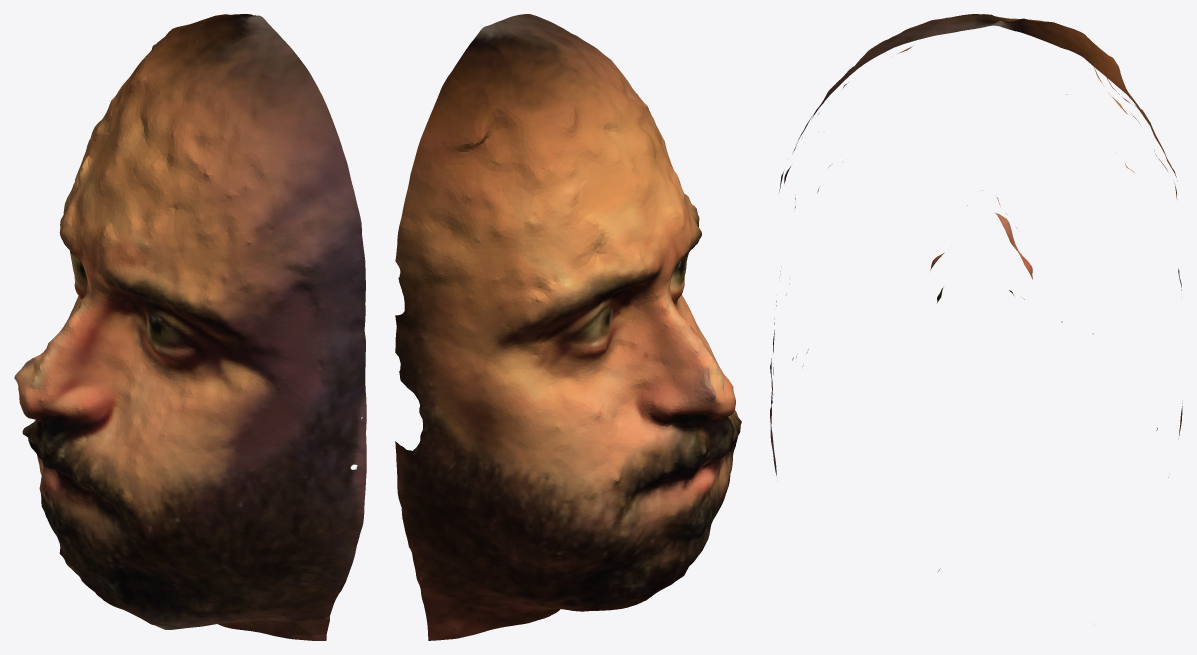
The model's file is Faccia 2 comp.glb.
3 views of the same model, side by side, from view 1: azimuth 30°, elevation 25°; view 2: azimuth 150°, elevation 25°; view 3: azimuth 270°, elevation 25° (orthographic). The views are drawn at different scales.
Parts seen in each view (by area): view 1: mesh.002; view 2: mesh.002; view 3: mesh.002.
Boxes of the visible parts, x1=… form: mesh.002: x1=14, y1=14, x2=366, y2=640; mesh.002: x1=395, y1=14, x2=741, y2=640; mesh.002: x1=770, y1=14, x2=1182, y2=571.
Size of the model in its own units: 0.0982 by 0.221 by 0.1344.
Materials: 1 (1 with a texture image).
